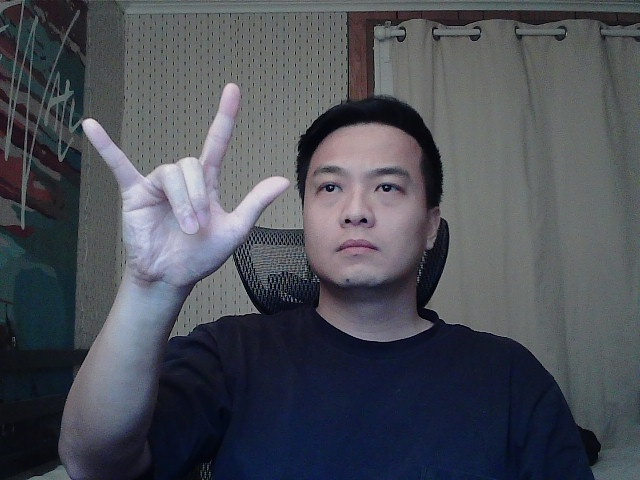I Love You: (66, 70, 305, 307)
